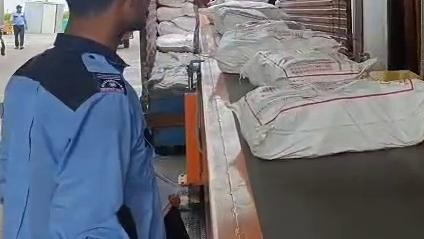box: (229, 80, 424, 159), (212, 20, 340, 73), (242, 49, 375, 85)
